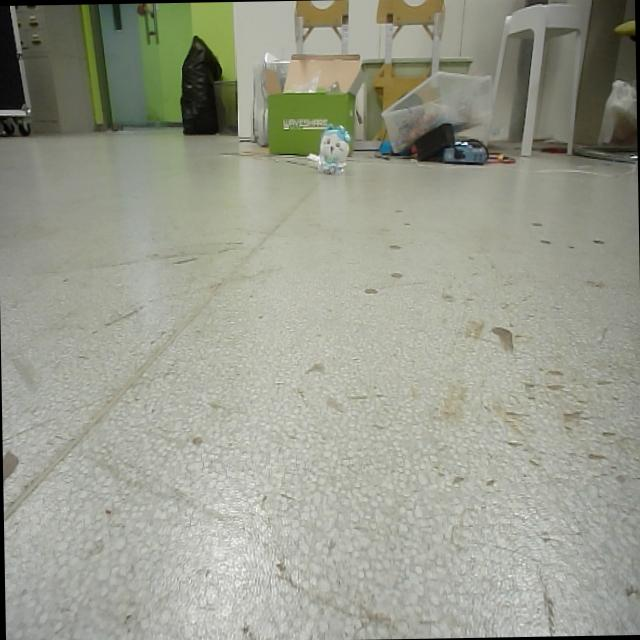xiaoba: (310, 121, 358, 177)
